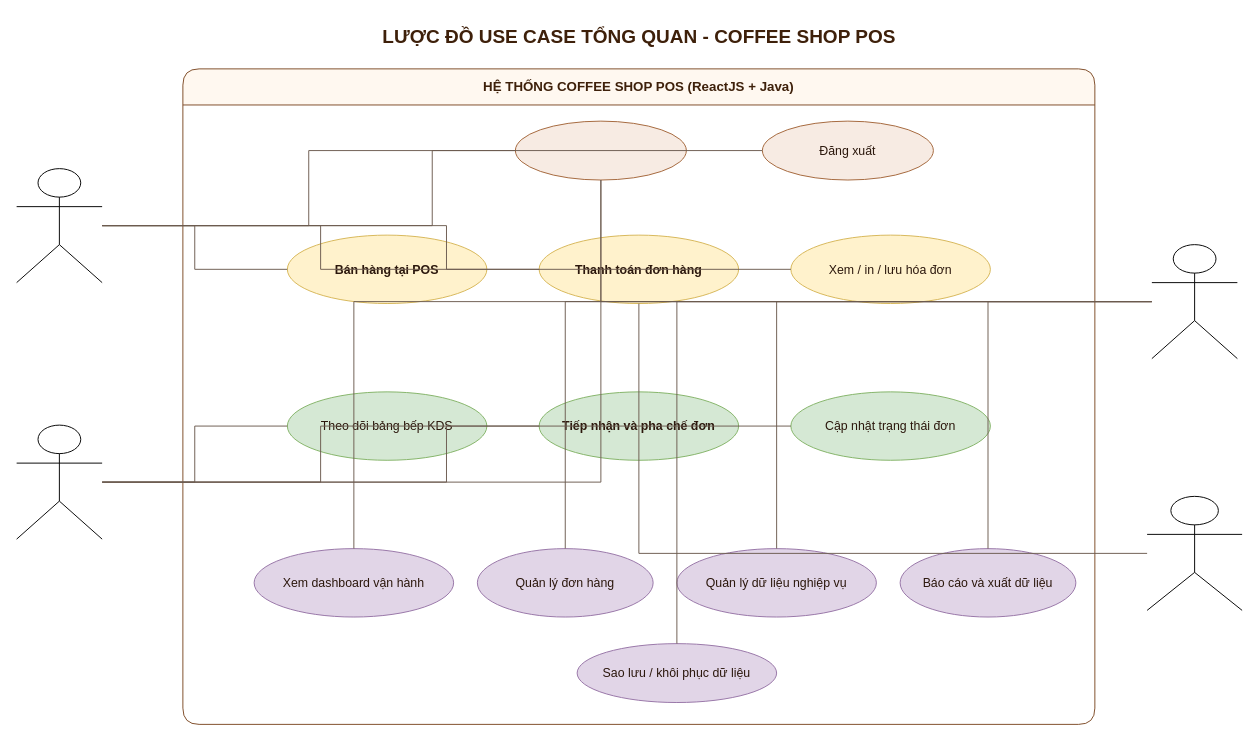
Some shapes in this 1260 by 741 pixel diagram are drawn without their labels. Each missing label, with the centre of its shape:
"Cổng thanh toán MoMo / VNPay" goes at (1194,552).
"Nhân viên bếp" goes at (59,481).
"Quản trị viên" goes at (1194,301).
"Thu ngân" goes at (59,225).
"Đăng nhập" goes at (600,150).
